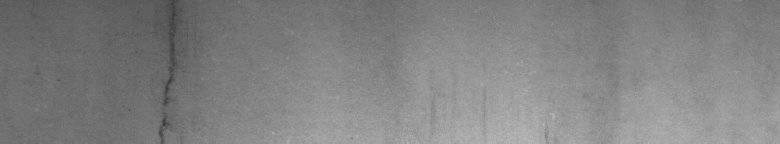hd: (154, 4, 182, 136)
